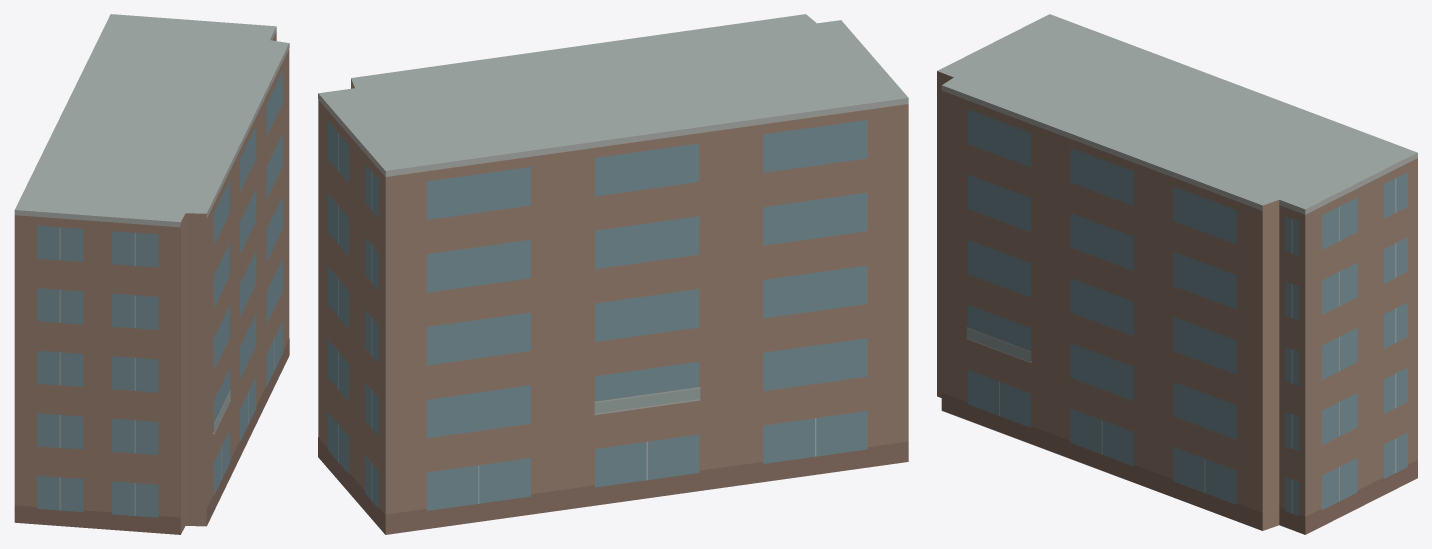
Rendered from survey-upis-32621646.glb.
The picture shows the model from 3 angles, left to right: view 1: azimuth 30°, elevation 25°; view 2: azimuth 150°, elevation 25°; view 3: azimuth 270°, elevation 25°; orthographic projection. The views are drawn at different scales.
Visible parts, largest first — view 1: survey-upis-32621646.tmp; view 2: survey-upis-32621646.tmp; view 3: survey-upis-32621646.tmp.
Boxes of the visible parts, left/top/right/bottom form: survey-upis-32621646.tmp: left=14, top=14, right=289, bottom=534; survey-upis-32621646.tmp: left=318, top=14, right=908, bottom=534; survey-upis-32621646.tmp: left=937, top=14, right=1417, bottom=534.
Bounding box in the file's own units: 19.07 × 14.8 × 19.82.
